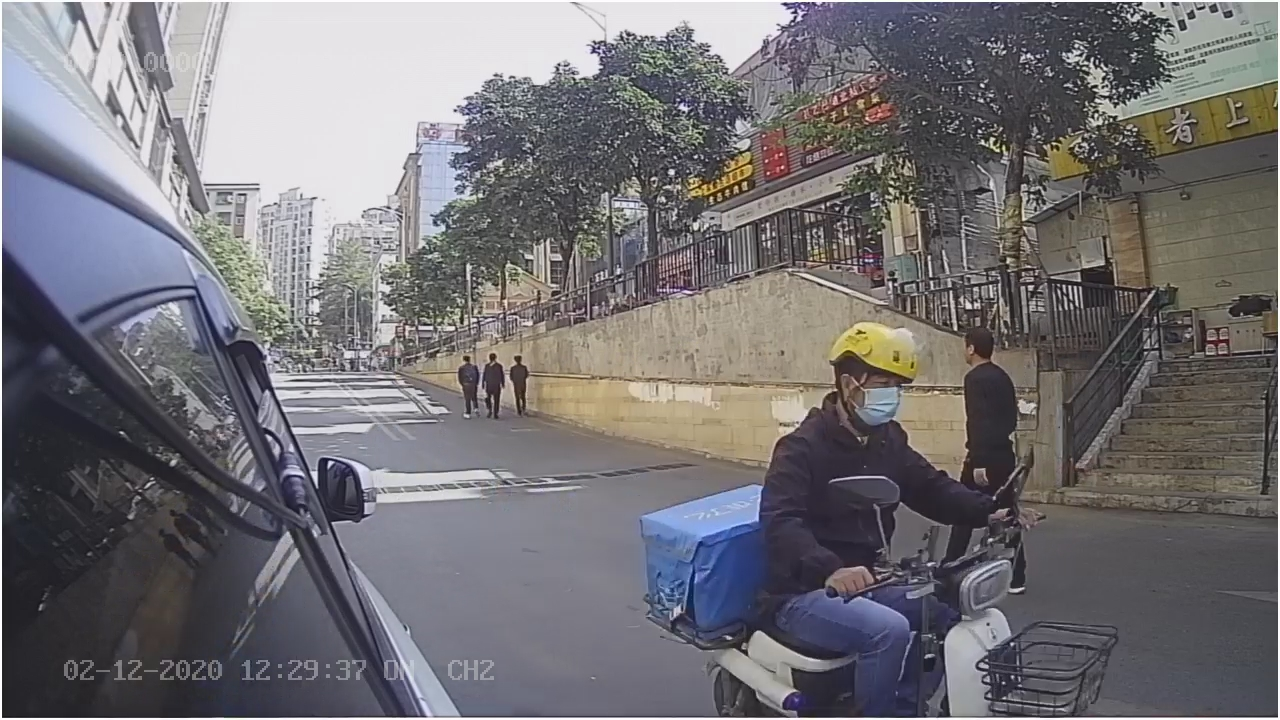person: (762, 320, 968, 590)
